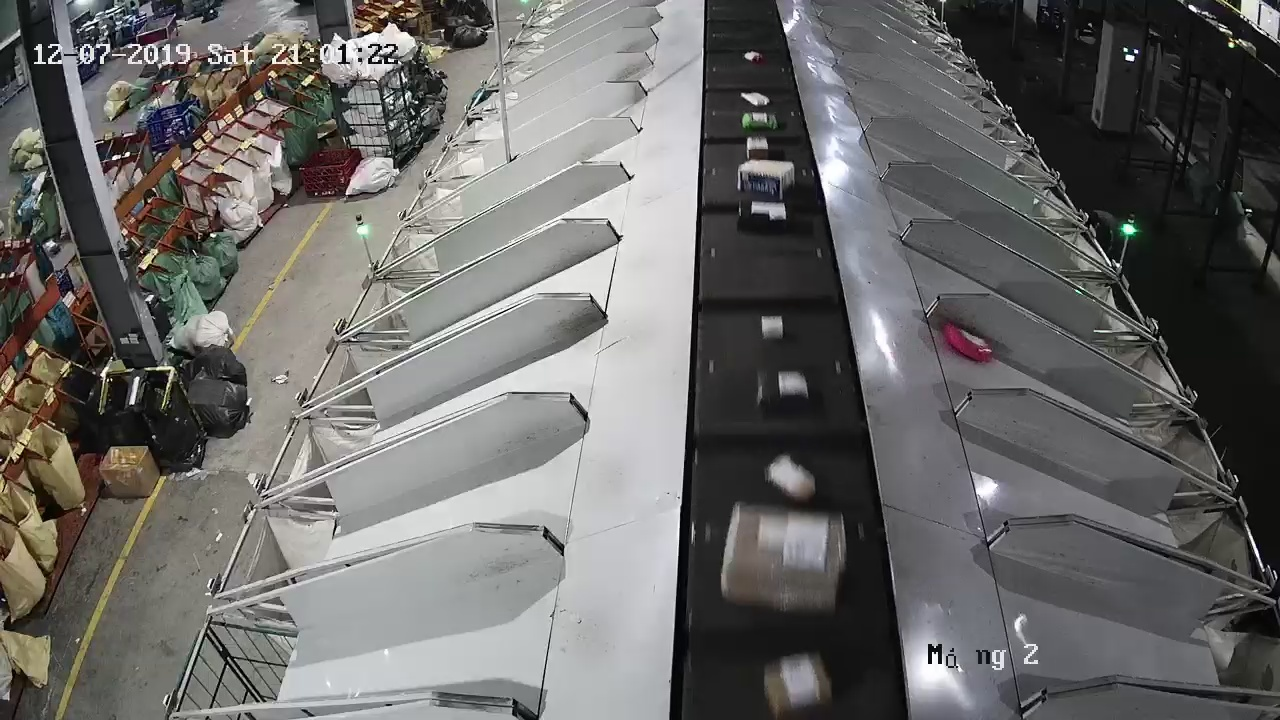parcel: (942, 322, 994, 363)
